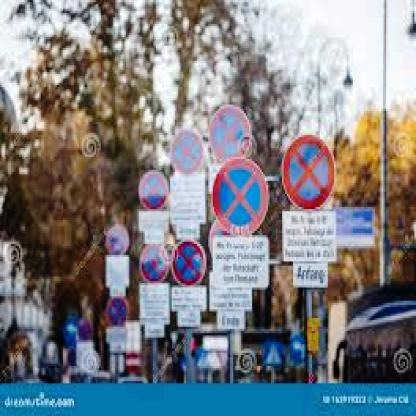No stopping: (210, 162, 266, 236), (281, 132, 334, 208), (210, 101, 252, 162), (168, 130, 204, 178), (134, 168, 168, 212), (172, 240, 205, 285), (139, 245, 170, 282), (106, 220, 129, 254)
